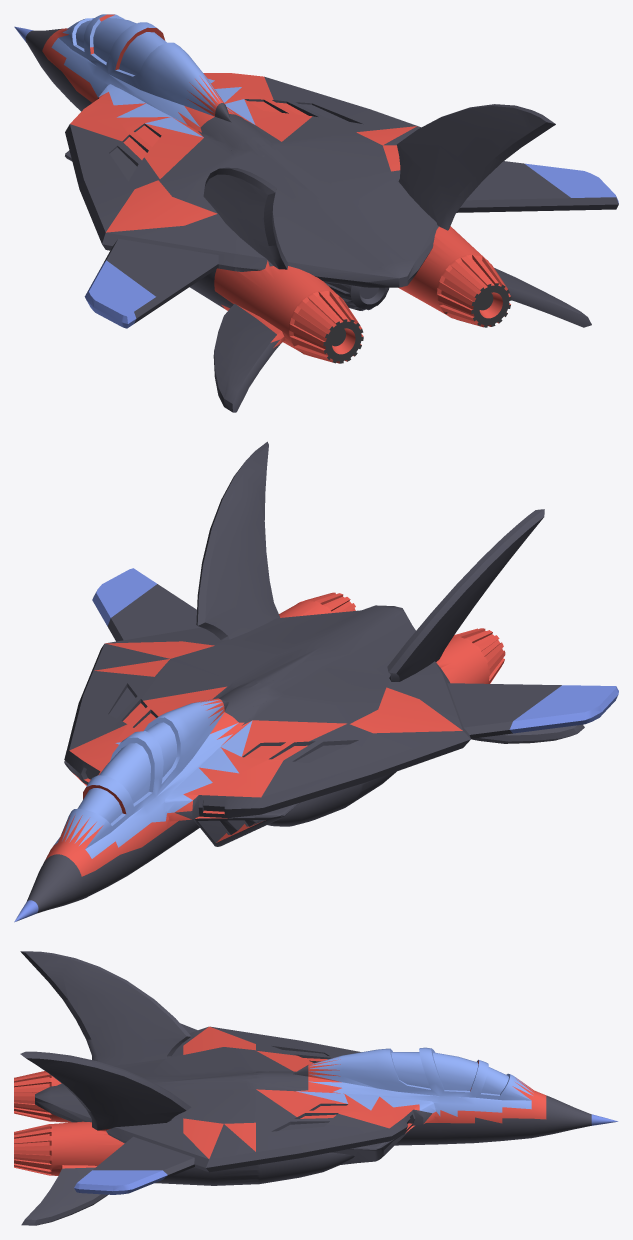
File: turbokat_swept.glb
3 views of the same model, one above another, from view 1: azimuth 30°, elevation 25°; view 2: azimuth 150°, elevation 25°; view 3: azimuth 270°, elevation 25° (orthographic). The views are drawn at different scales.
Parts seen in each view (by area): view 1: body, cockpit, engine, glass, stripe, nozzle; view 2: body, cockpit, glass, stripe, engine; view 3: body, glass, cockpit, engine, stripe.
Boxes of the visible parts, x1,y1,x2,y2 form: body: [25, 28, 618, 412]; cockpit: [42, 14, 417, 232]; engine: [214, 226, 510, 363]; glass: [51, 14, 255, 137]; stripe: [14, 26, 618, 328]; nozzle: [323, 283, 511, 363]; body: [27, 441, 584, 913]; cockpit: [44, 641, 462, 876]; glass: [53, 699, 252, 858]; stripe: [14, 568, 618, 922]; engine: [279, 592, 505, 683]; body: [20, 951, 591, 1225]; glass: [296, 1047, 533, 1116]; cockpit: [183, 1026, 546, 1158]; engine: [14, 1071, 124, 1175]; stripe: [74, 1114, 618, 1194].
Size of the model in its own units: 15.99 by 6.44 by 22.
